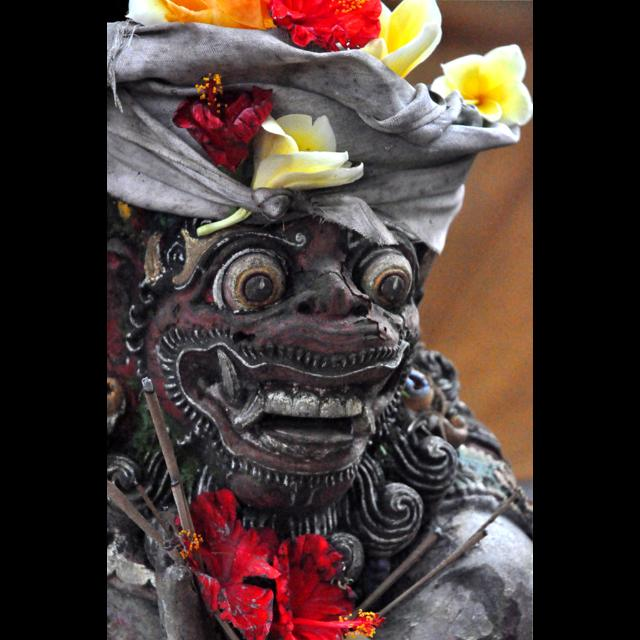Flower: (197, 112, 366, 238), (170, 489, 282, 639), (270, 534, 386, 638), (170, 72, 278, 175), (440, 32, 532, 116), (362, 0, 440, 80), (268, 0, 384, 50), (124, 0, 278, 32)
